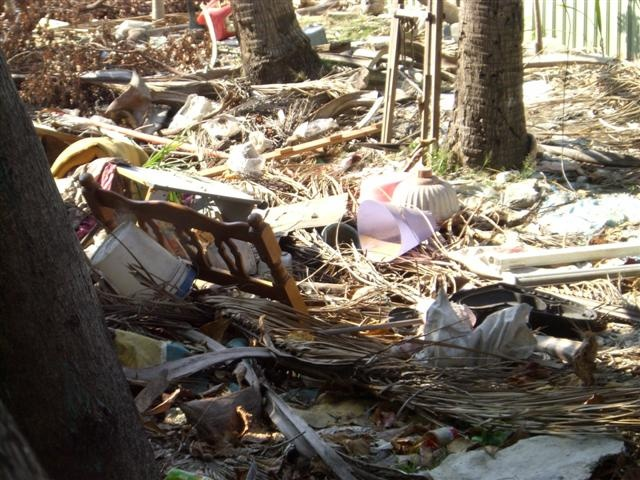bucket: (88, 218, 197, 305), (357, 197, 438, 262)
